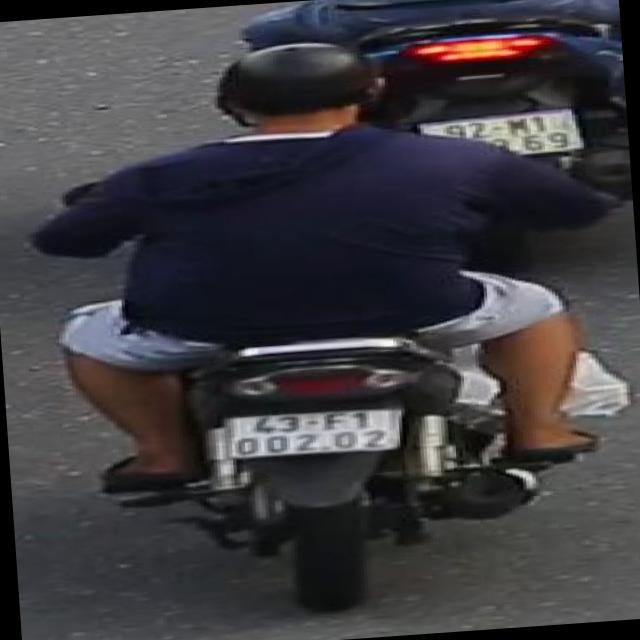LP: (219, 398, 413, 463)
helmet: (197, 33, 388, 148)
